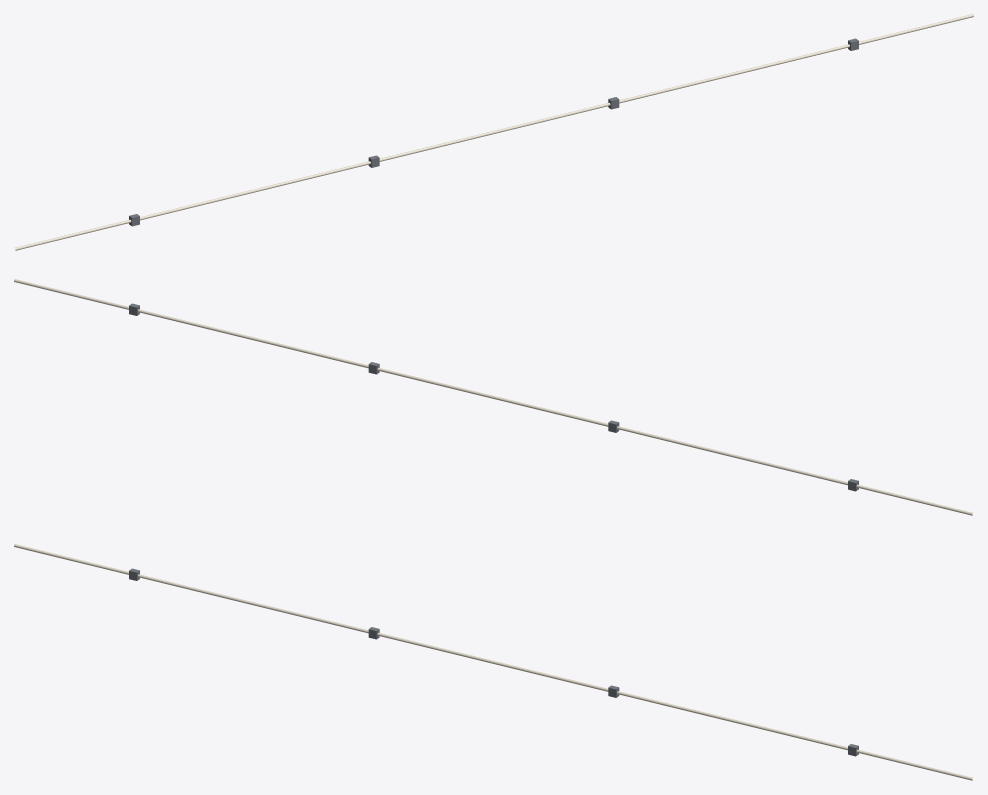
The model's file is area-b-piping.glb.
The picture shows the model from 3 angles, top to bottom: view 1: azimuth 30°, elevation 25°; view 2: azimuth 150°, elevation 25°; view 3: azimuth 330°, elevation 25°; orthographic projection.
Bounding box in the file's own units: 20 × 0.168 × 0.112.
